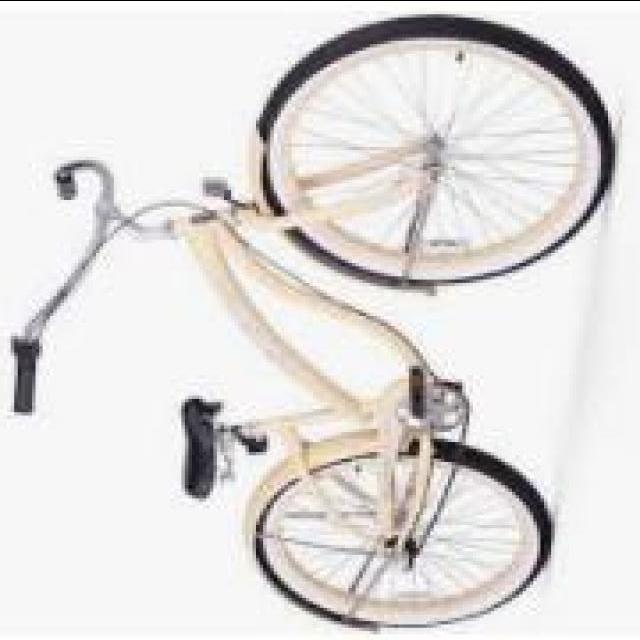bicycle: (19, 27, 585, 637)
